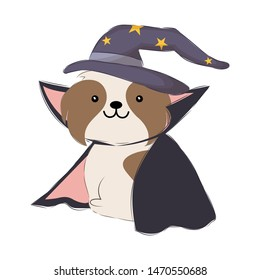dog: (62, 74, 180, 224)
